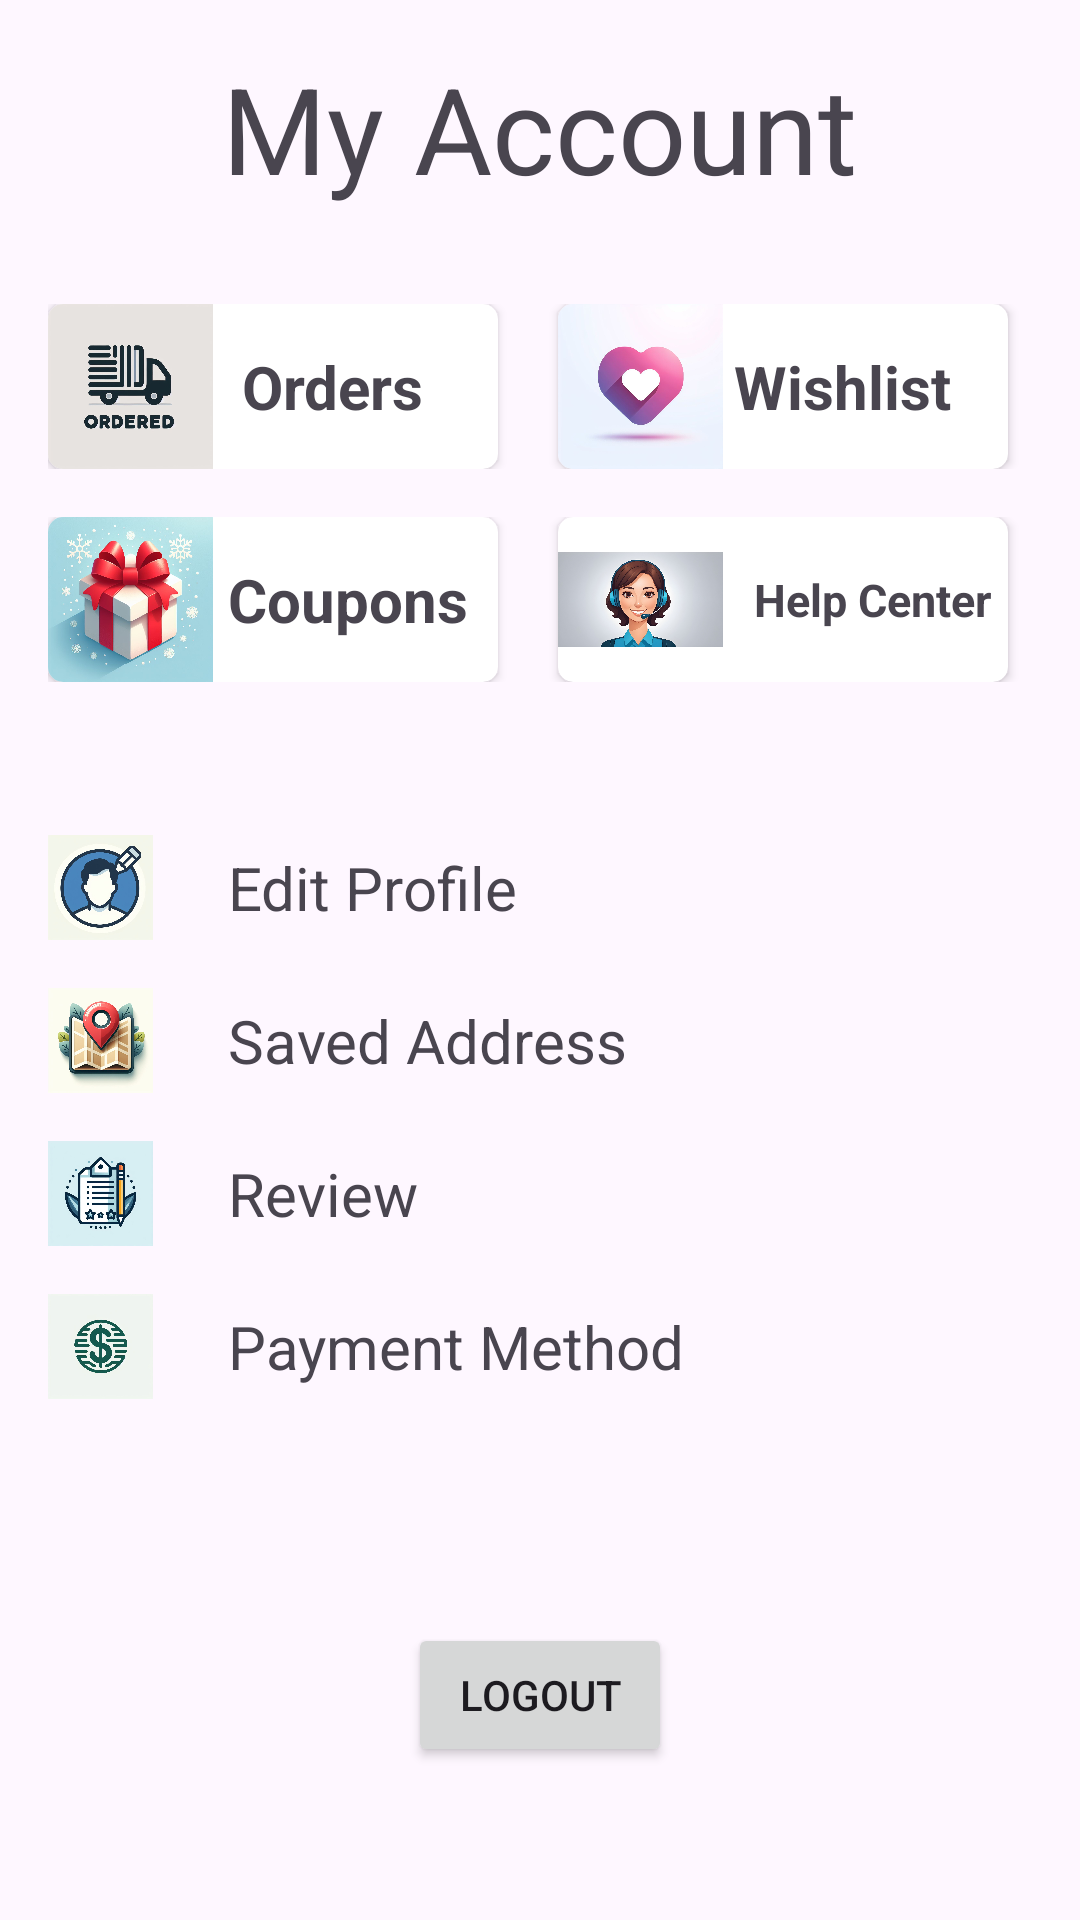

Named icons in this screenshot (1080 x 1920) and their centers, (x=x, y=y):
customercare: (x=640, y=617)
